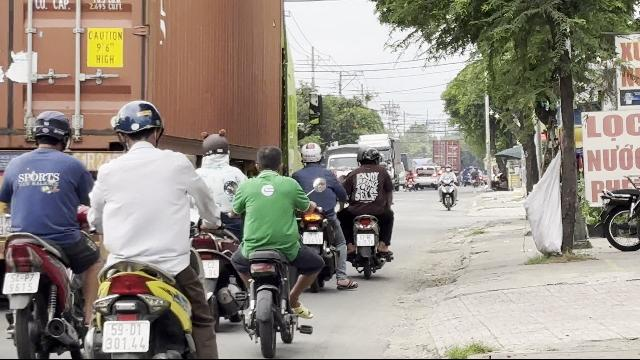helmet: (111, 100, 165, 150), (28, 109, 72, 151), (202, 132, 230, 162), (358, 146, 382, 168), (300, 141, 322, 165)
licenseplate: (104, 320, 148, 352), (4, 272, 38, 294), (303, 232, 323, 244), (358, 233, 374, 247)
motorcyclist: (80, 98, 232, 356), (0, 108, 104, 356), (218, 144, 326, 354), (292, 141, 348, 291), (341, 143, 397, 277)
nohelmet: (254, 145, 284, 175)
